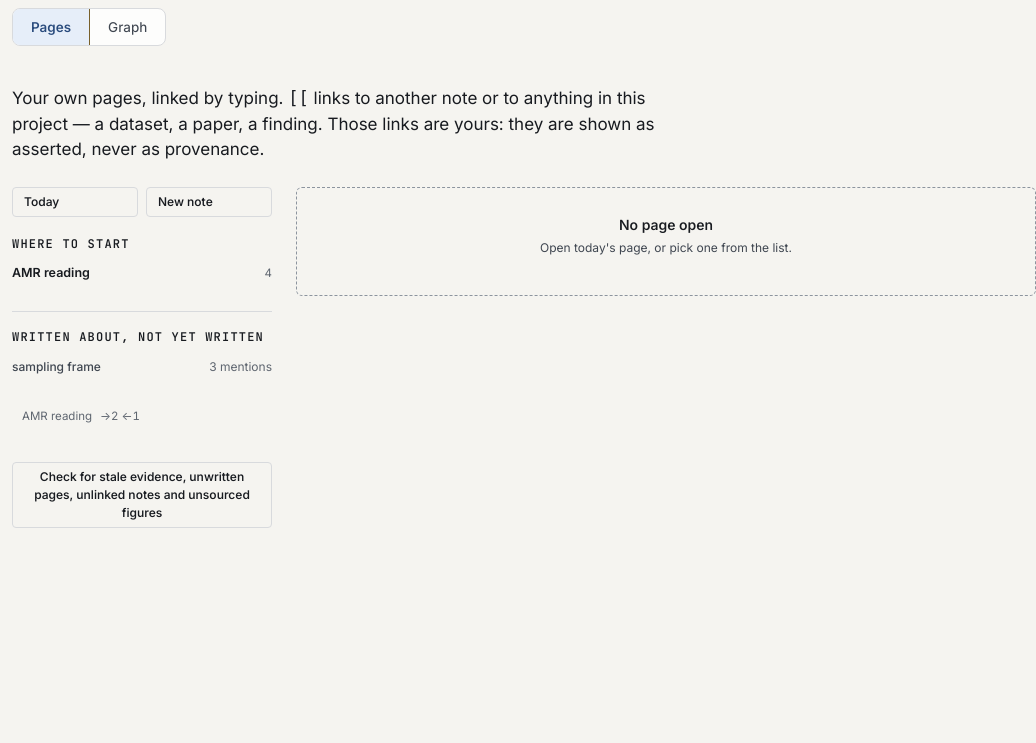
Test: what the check found, in words › shows the why and the what-to-do without a second press
This screenshot has width=1036, height=743.
What coordinates should you click on to do the following:
click the button "stale evidence"
I would click on:
 (142, 494)
Its box is [12,462,272,528].
(page scrolled)
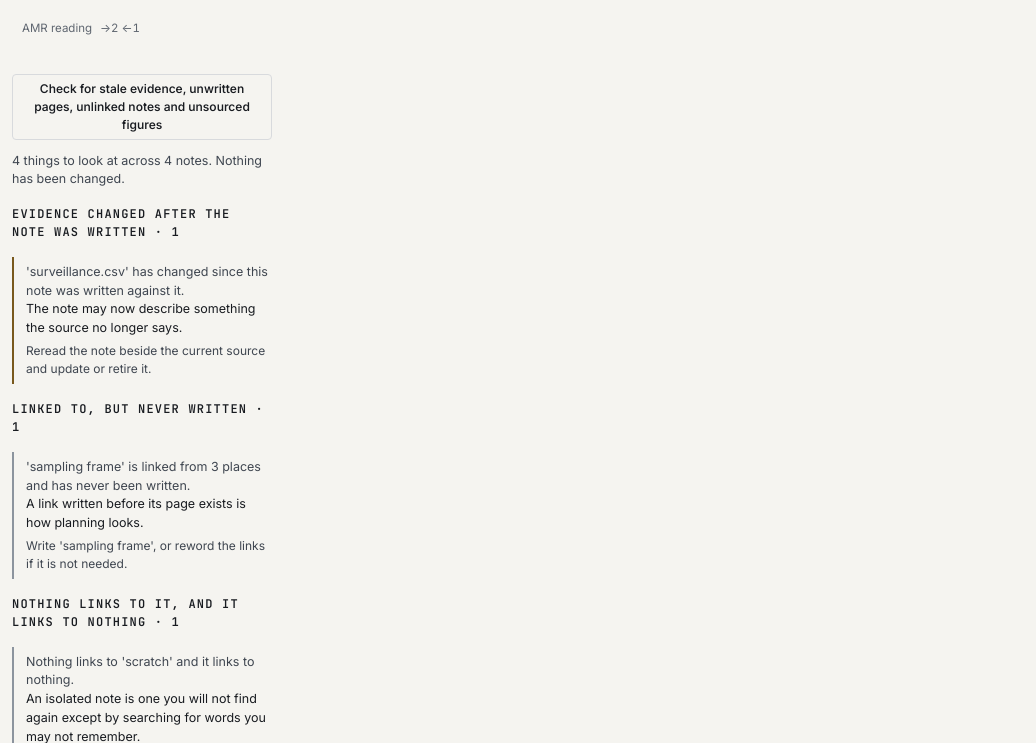
Expected: the text "no longer says" is shown, [26,301,256,335]
Expected: the text "Reread the note beside the current source" is shown, [26,343,265,376]
